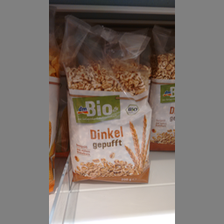cereal: (63, 44, 152, 186)
